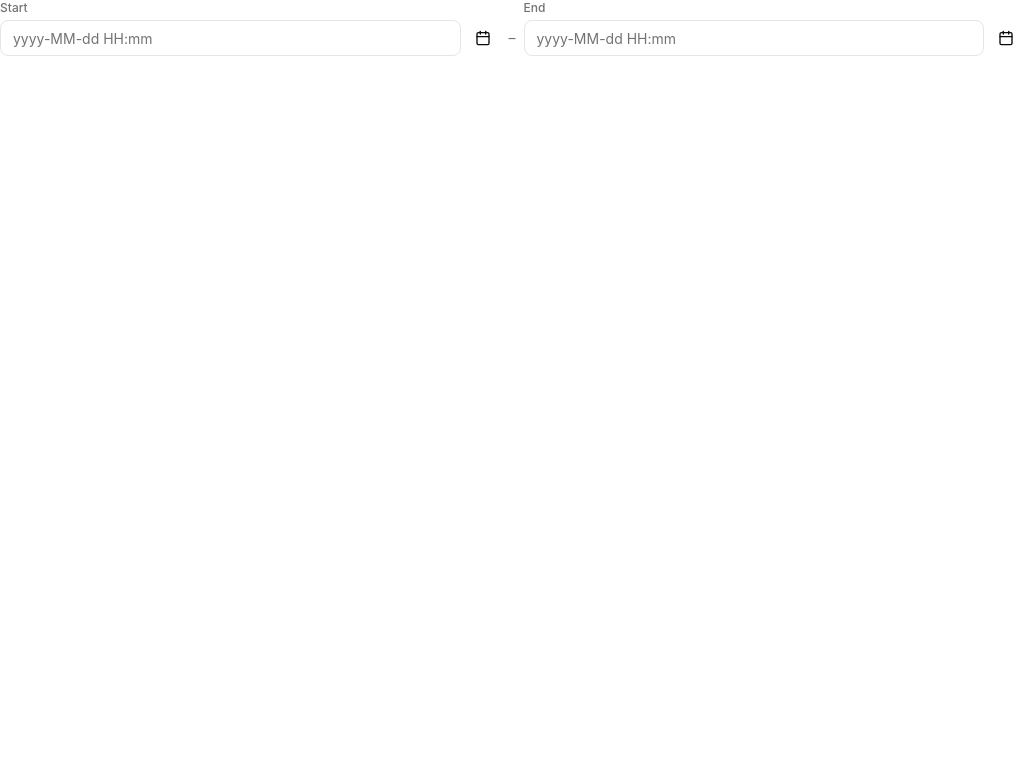
Test: DateTimeRangePicker › opens popover when calendar icon is clicked
What coordinates should you click on to do the following:
click the 1st button named "Open calendar"
I would click on:
 (482, 38)
Its box is [464,20,500,56].
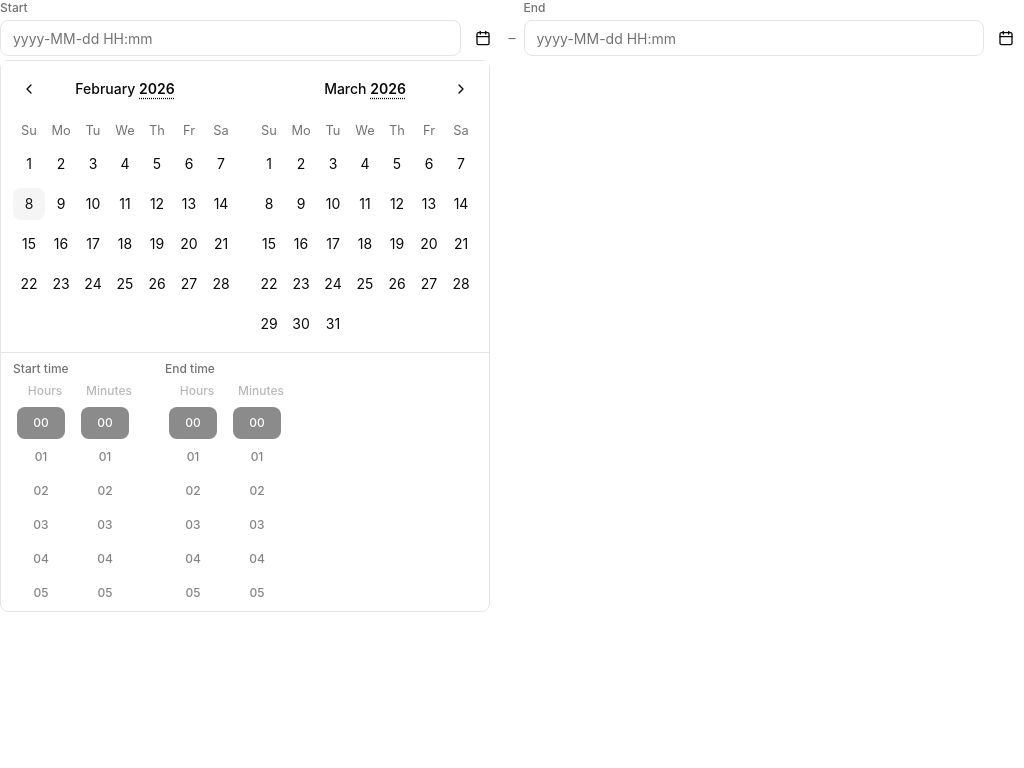
Expected: the text "Start time" is shown, [13,361,69,376]
Expected: the text "End time" is shown, [165,361,215,376]
